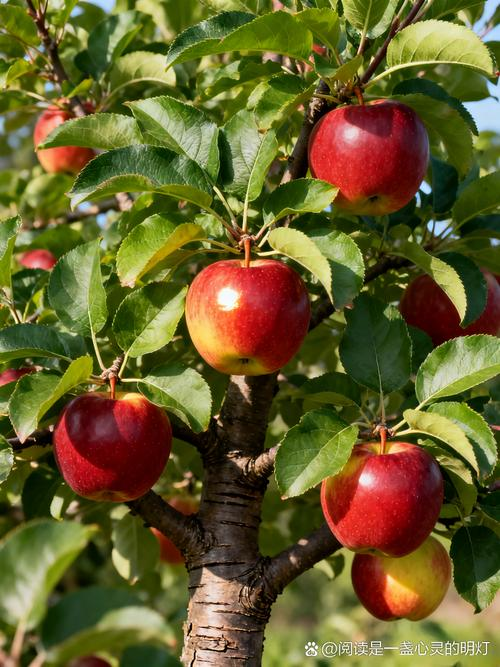ripe: (174, 248, 306, 386), (296, 99, 448, 214), (53, 374, 177, 512), (322, 437, 448, 558)
unripe: (344, 527, 458, 624)
